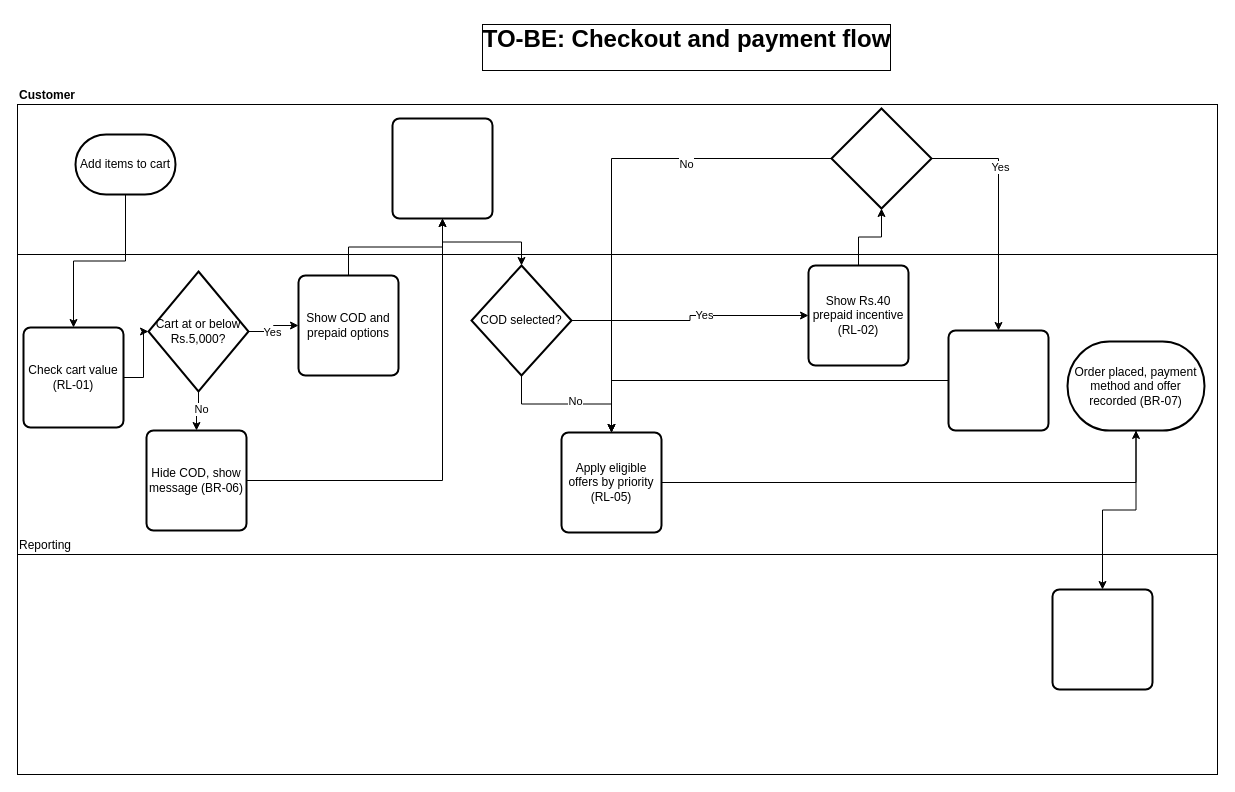
This 1235x792 diagram has some shape labels left out. The shapes that lost their labels are listed below. From the top down, each one's box as (x1, y1, x2, y2) in pixels, then its label:
(391, 117, 493, 219): Choose payment method
(830, 107, 932, 209): Switch to prepaid?
(947, 329, 1049, 431): Apply Rs.40 incentive
(16, 254, 1218, 554): Checkout System
(1051, 588, 1153, 690): Weekly prepaid-share report (SCRUM-13)
